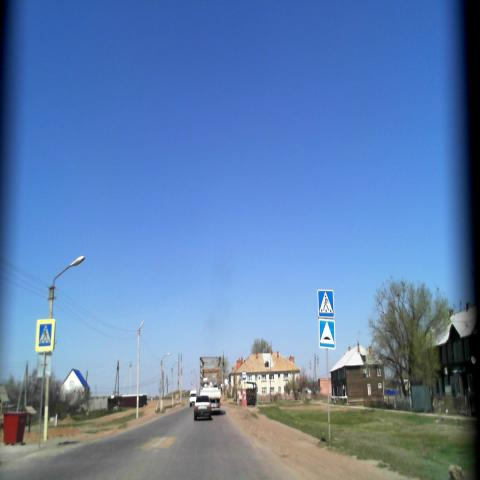5_20: (318, 319, 336, 349)
